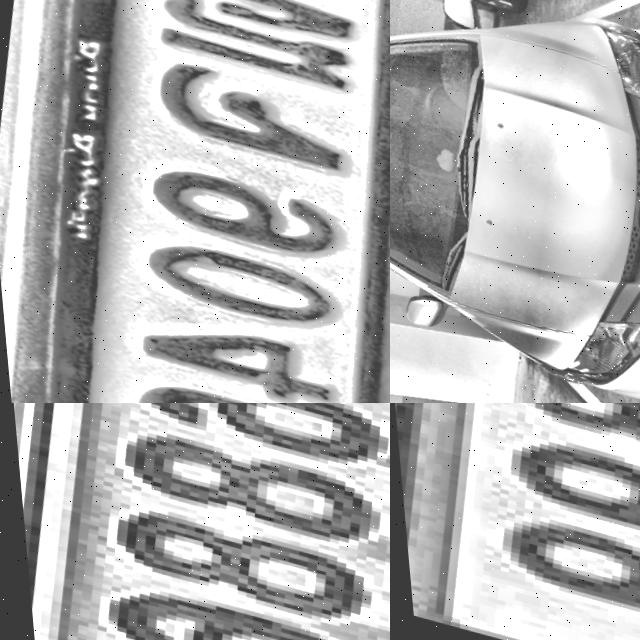license-plate: (0, 0, 390, 403), (0, 403, 390, 640), (390, 403, 640, 640)
